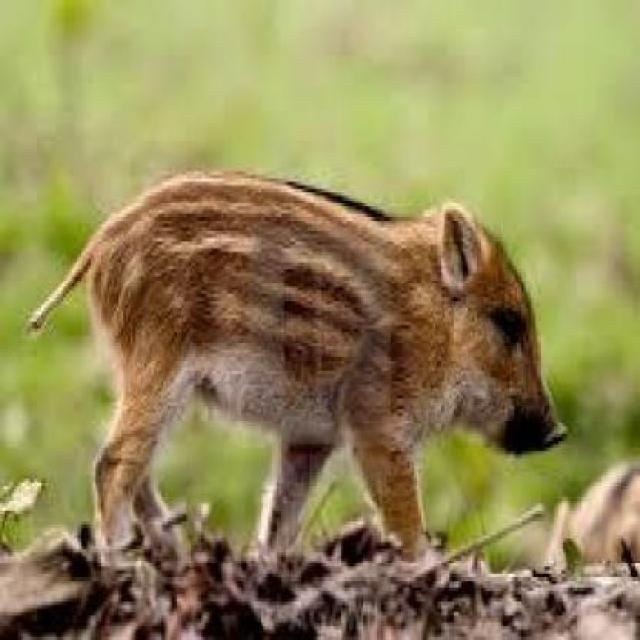wildboar: (22, 164, 575, 576)
